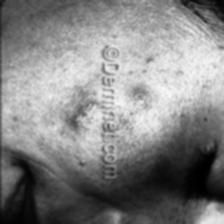Toxin: (117, 47, 161, 176), (60, 78, 96, 176)
